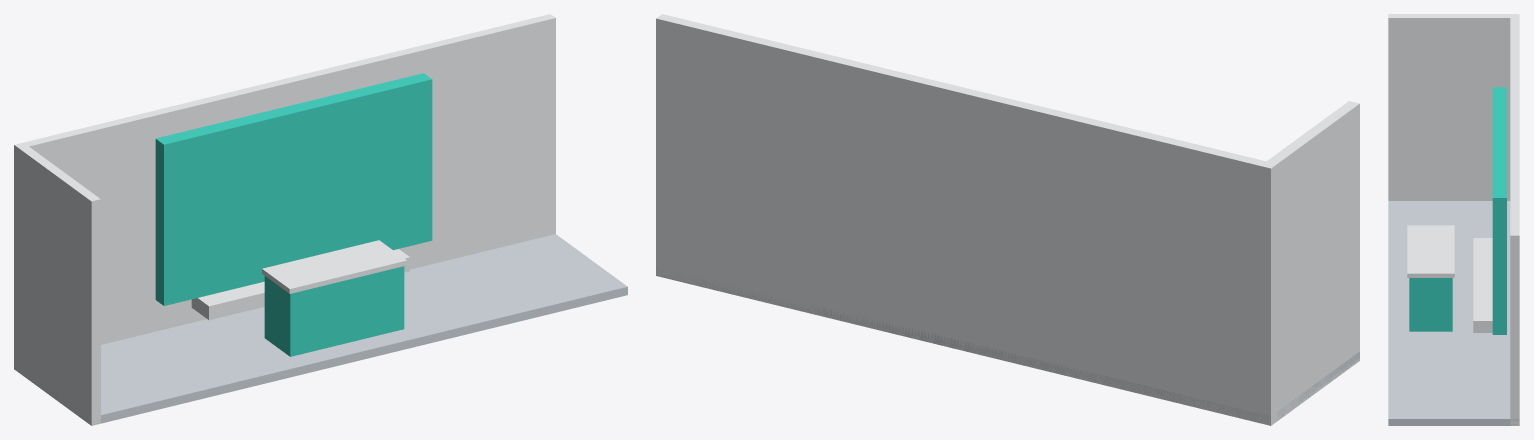
The picture shows the model from 3 angles, left to right: view 1: azimuth 30°, elevation 25°; view 2: azimuth 150°, elevation 25°; view 3: azimuth 270°, elevation 25°; orthographic projection. The views are drawn at different scales.
Parts seen in each view (by area): view 1: Exhibition Booth Concept; view 2: Exhibition Booth Concept; view 3: Exhibition Booth Concept.
Boxes of the visible parts, bbox=[...] form: Exhibition Booth Concept: bbox=[14, 14, 627, 425]; Exhibition Booth Concept: bbox=[656, 14, 1359, 425]; Exhibition Booth Concept: bbox=[1388, 14, 1519, 425].
Bounding box in the file's own units: 8 × 3.2 × 2.
